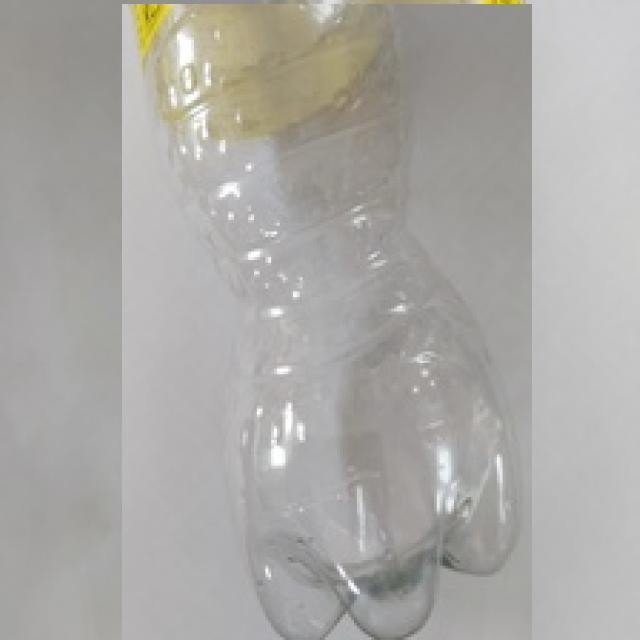BIODEGRADABLE: (122, 4, 532, 640)
